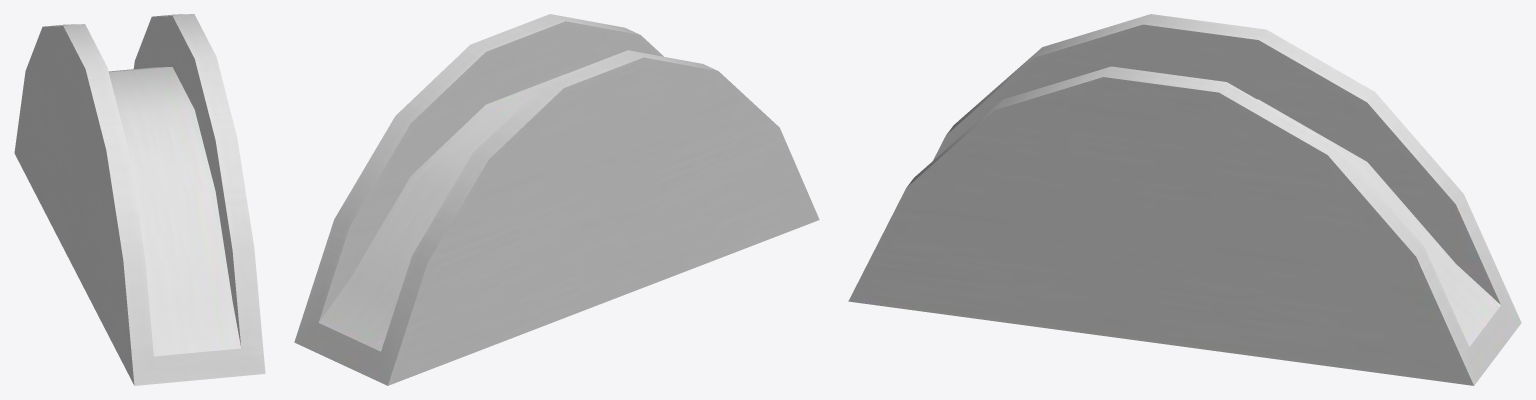
The model's file is tool_pipe_bender_crossbow_nozzle_02.glb.
The picture shows the model from 3 angles, left to right: view 1: azimuth 30°, elevation 25°; view 2: azimuth 150°, elevation 25°; view 3: azimuth 270°, elevation 25°; orthographic projection. The views are drawn at different scales.
Visible parts, largest first — view 1: tool_pipe_bender_crossbow_nozzle_02; view 2: tool_pipe_bender_crossbow_nozzle_02; view 3: tool_pipe_bender_crossbow_nozzle_02.
Boxes of the visible parts, bbox=[...] form: tool_pipe_bender_crossbow_nozzle_02: bbox=[14, 14, 265, 385]; tool_pipe_bender_crossbow_nozzle_02: bbox=[294, 14, 819, 385]; tool_pipe_bender_crossbow_nozzle_02: bbox=[848, 14, 1521, 385].
Bounding box in the file's own units: 0.0808 × 0.0662 × 0.156.
1 material, 1 textured.
